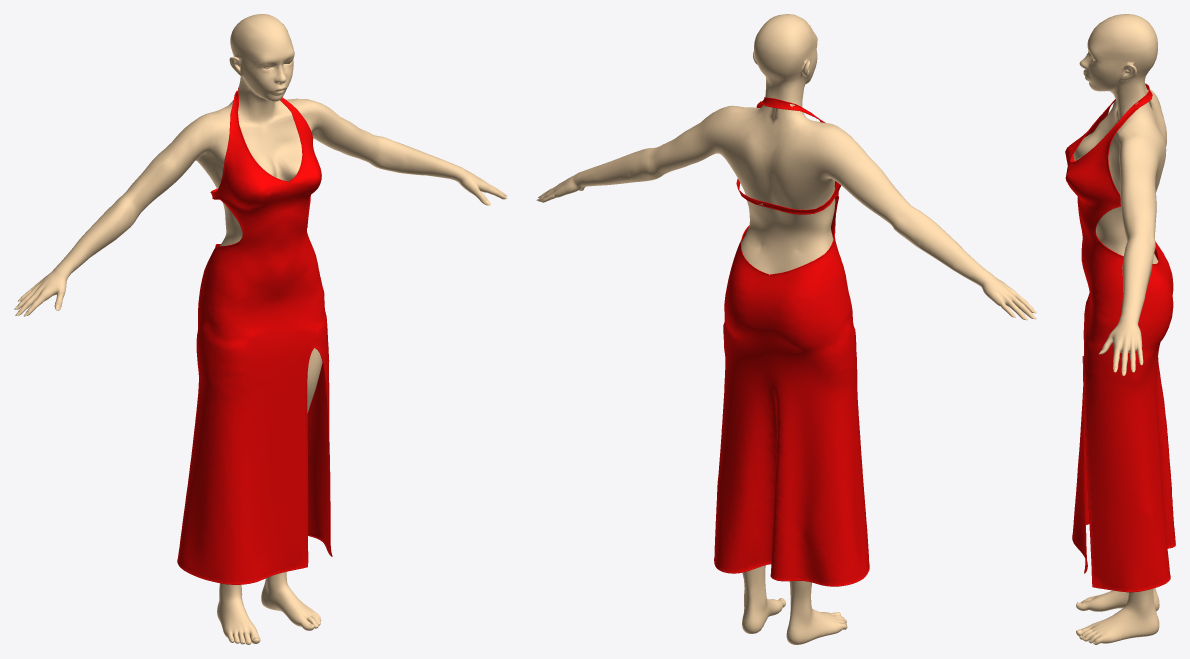
Rendered from dress3.glb.
3 renders of one model, left to right at view 1: azimuth 30°, elevation 25°; view 2: azimuth 150°, elevation 25°; view 3: azimuth 270°, elevation 25°, orthographic.
Parts seen in each view (by area): view 1: EveningDress, Body; view 2: EveningDress, Body; view 3: EveningDress, Body.
Part boxes in pixels (box(x1,y1,x2,y2)): EveningDress: box(177, 87, 332, 584); Body: box(16, 14, 506, 644); EveningDress: box(714, 97, 869, 586); Body: box(538, 14, 1033, 644); EveningDress: box(1065, 83, 1175, 592); Body: box(1073, 14, 1166, 644).
Bounding box in the file's own units: 1.58 × 1.85 × 0.306.
